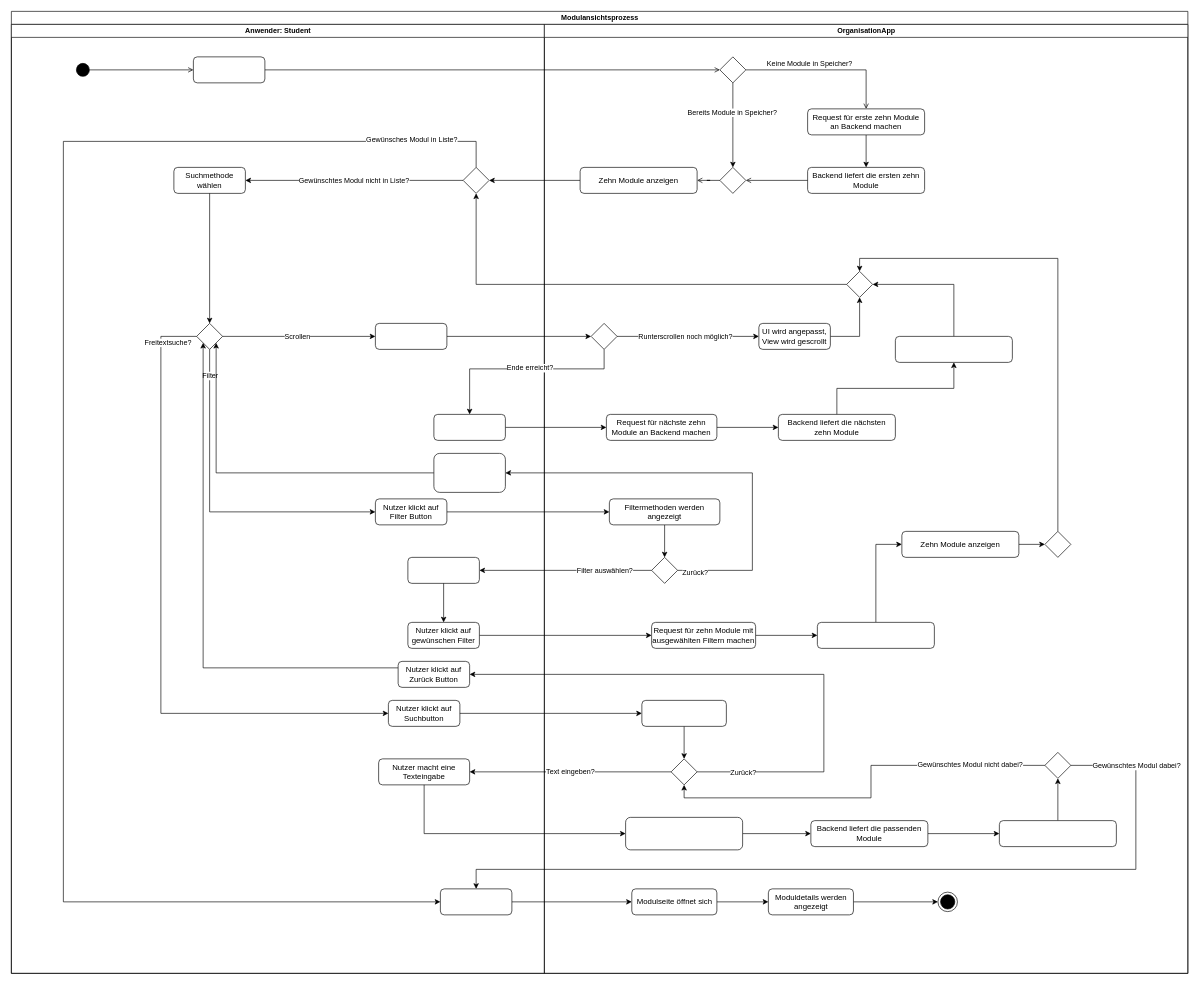
Image size: 1199x985. Some labels were removed from this diagram. Here are the shapes that lost their labels. From the top down, the centre of each, then its label:
At [229,69]: "Module in Menü anklicken".
At [411,336]: "Nutzer scrollt".
At [953,349]: "Zehn Module mehr anzeigen".
At [469,427]: "Load More klicken".
At [469,472]: "Nutzer klickt auf außerhalb des Filterfeldes".
At [443,570]: "Nutzer wählt Filter aus".
At [875,635]: "Backend liefert die passenden zehn Module".
At [683,713]: "Suche öffnet sich".
At [684,833]: "Request für Module mit entsprechender search query machen".
At [1057,833]: "View wird geupdated, Module werden angezeigt".
At [476,901]: "Modul anklicken".
